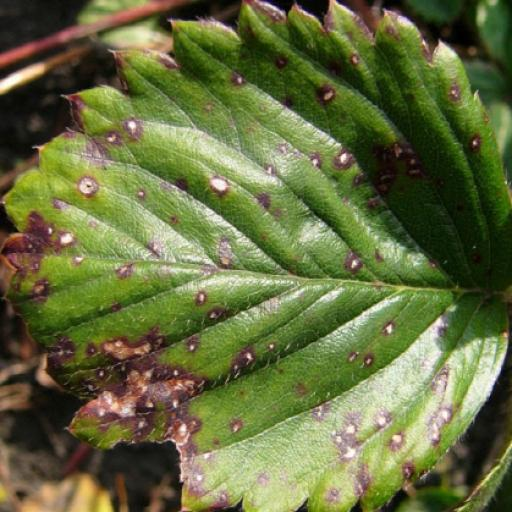Leaf Spot: (0, 0, 511, 511)
